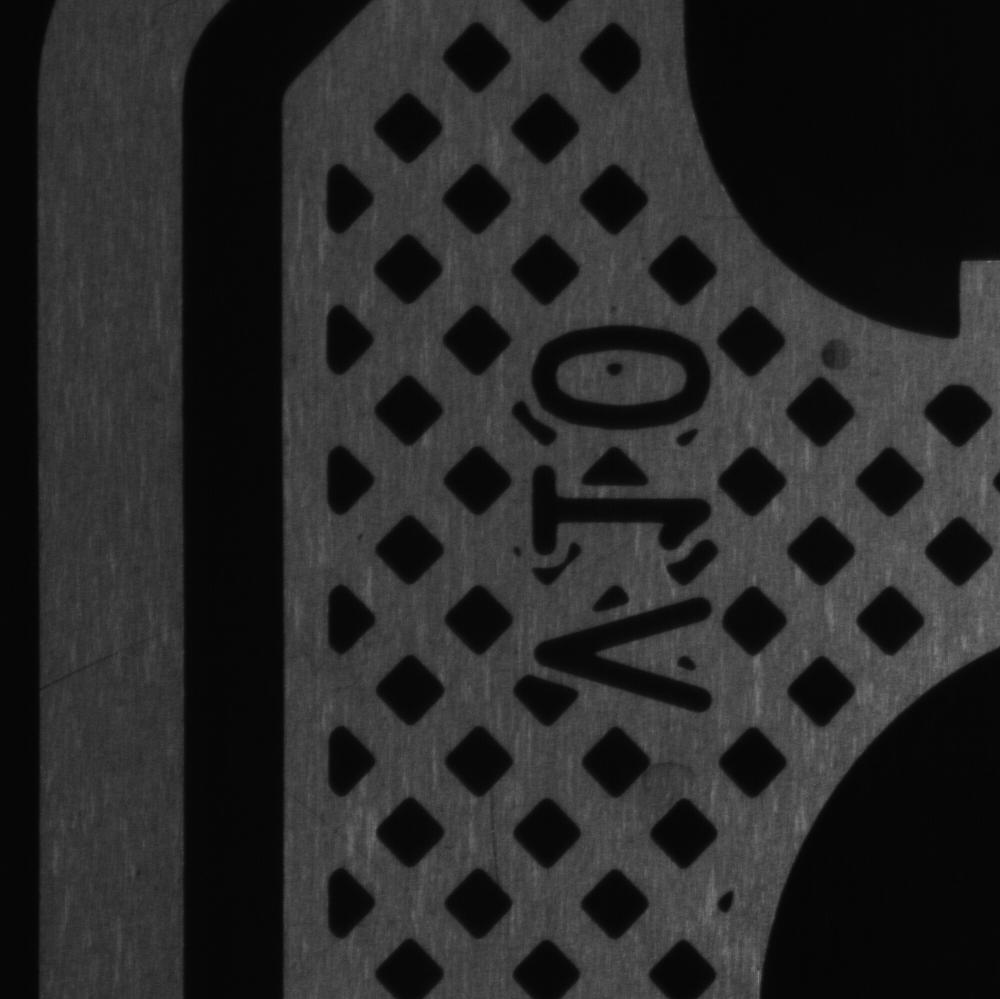Discolor: (627, 741, 707, 826), (808, 320, 876, 387)
Scar: (39, 606, 181, 703), (288, 779, 391, 899), (479, 777, 515, 895)
